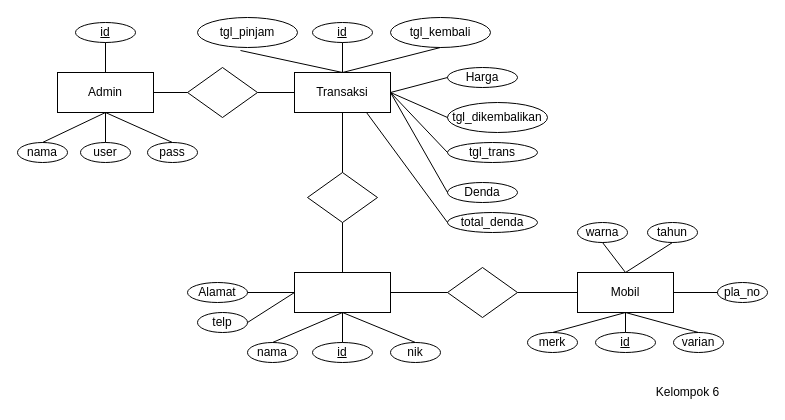
Image size: 785x420. Some labels were removed from this diagram. The shapes that lost their labels are listed below. From the top down, each one's box as (x1, y1, x2, y2) in pixels, then its label:
(186, 66, 258, 118): mengelola
(306, 172, 378, 222): Melakukan
(294, 272, 390, 312): Customer
(446, 266, 518, 318): Menyewa
